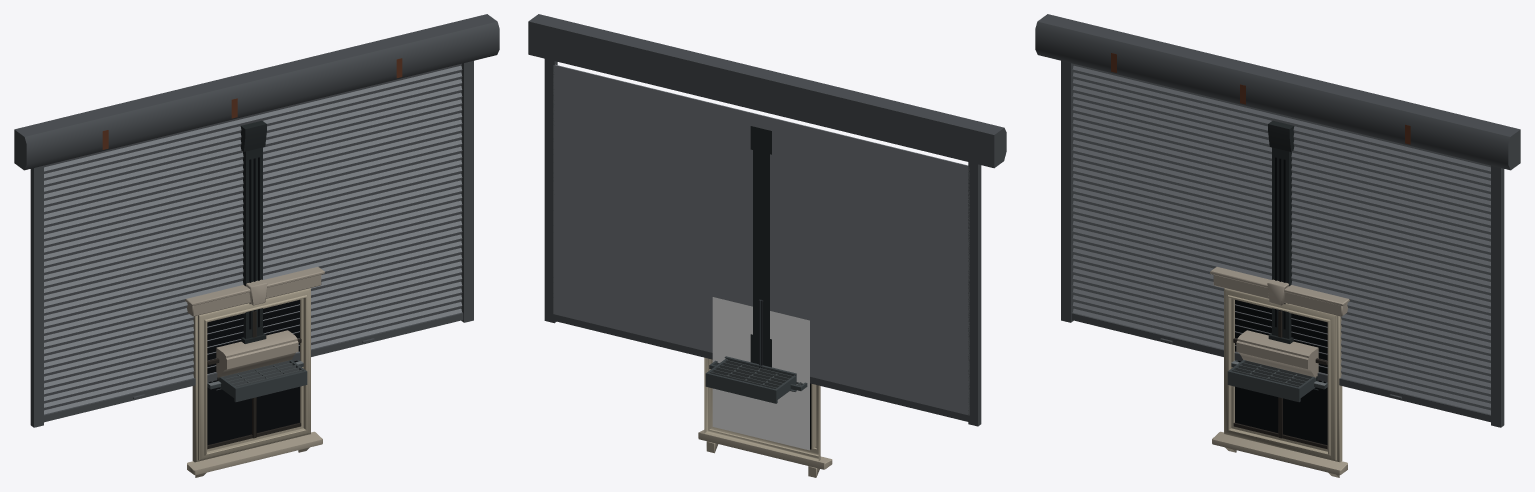
The model's file is buildings.glb.
3 views of the same model, side by side, from view 1: azimuth 30°, elevation 25°; view 2: azimuth 150°, elevation 25°; view 3: azimuth 330°, elevation 25° (orthographic).
Parts seen in each view (by area): view 1: shutter, window_unit, shop_pilaster, cornice, grating_deck; view 2: shutter, card_window, shop_pilaster, window_unit, grating_deck, card_unit; view 3: shutter, window_unit, shop_pilaster, cornice, grating_deck.
Part boxes in pixels (bbox=[...]): shutter: bbox=[14, 14, 499, 427]; window_unit: bbox=[185, 267, 324, 477]; shop_pilaster: bbox=[240, 120, 266, 343]; cornice: bbox=[216, 330, 298, 377]; grating_deck: bbox=[219, 360, 307, 402]; shutter: bbox=[528, 14, 1006, 426]; card_window: bbox=[712, 297, 809, 450]; shop_pilaster: bbox=[750, 126, 771, 367]; window_unit: bbox=[698, 357, 832, 477]; grating_deck: bbox=[705, 358, 796, 403]; card_unit: bbox=[726, 334, 796, 418]; shutter: bbox=[1035, 14, 1520, 427]; window_unit: bbox=[1210, 267, 1349, 477]; shop_pilaster: bbox=[1268, 120, 1294, 343]; cornice: bbox=[1236, 330, 1318, 377]; grating_deck: bbox=[1227, 360, 1315, 402].
Bounding box in the file's own units: 6.6 × 5.23 × 1.
